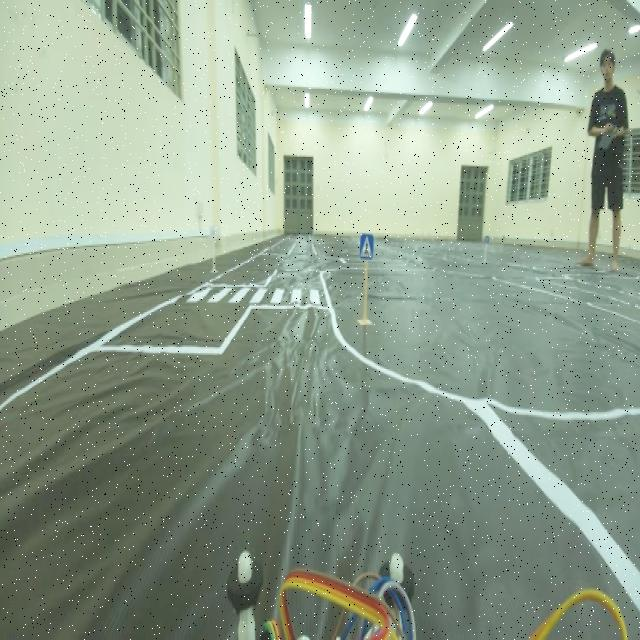crosswalk: (355, 224, 379, 277)
